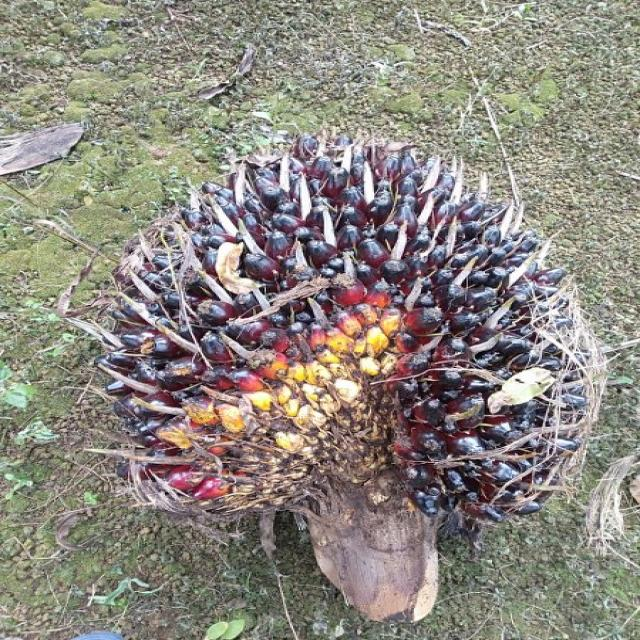fraksi 00: (43, 93, 610, 596)
